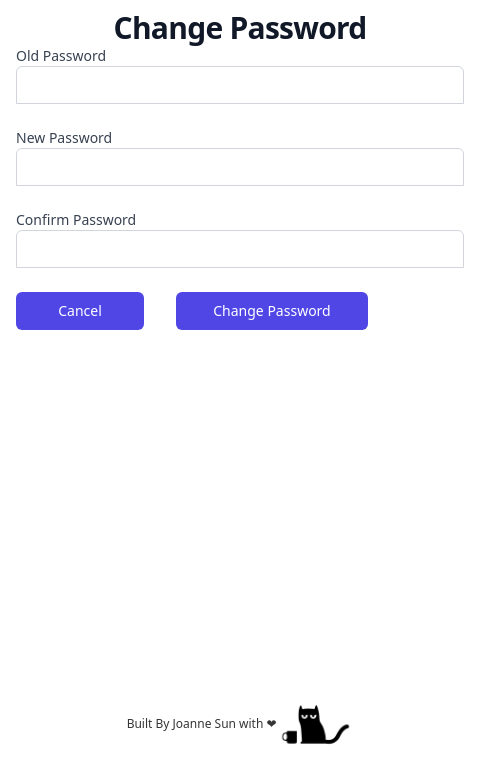
Test: Validation form › Error is displayed when Old password field is left empty and submit button is clicked
Click the button with id "submit-password" at [272, 311], box top-left (176, 292), bottom-right (368, 330)
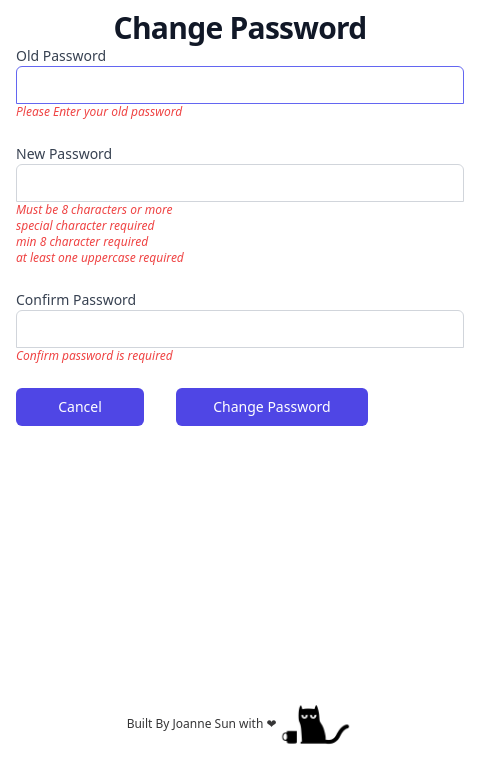
Expected: the text "Please Enter your old password" is shown, top-left (16, 103), bottom-right (182, 120)
